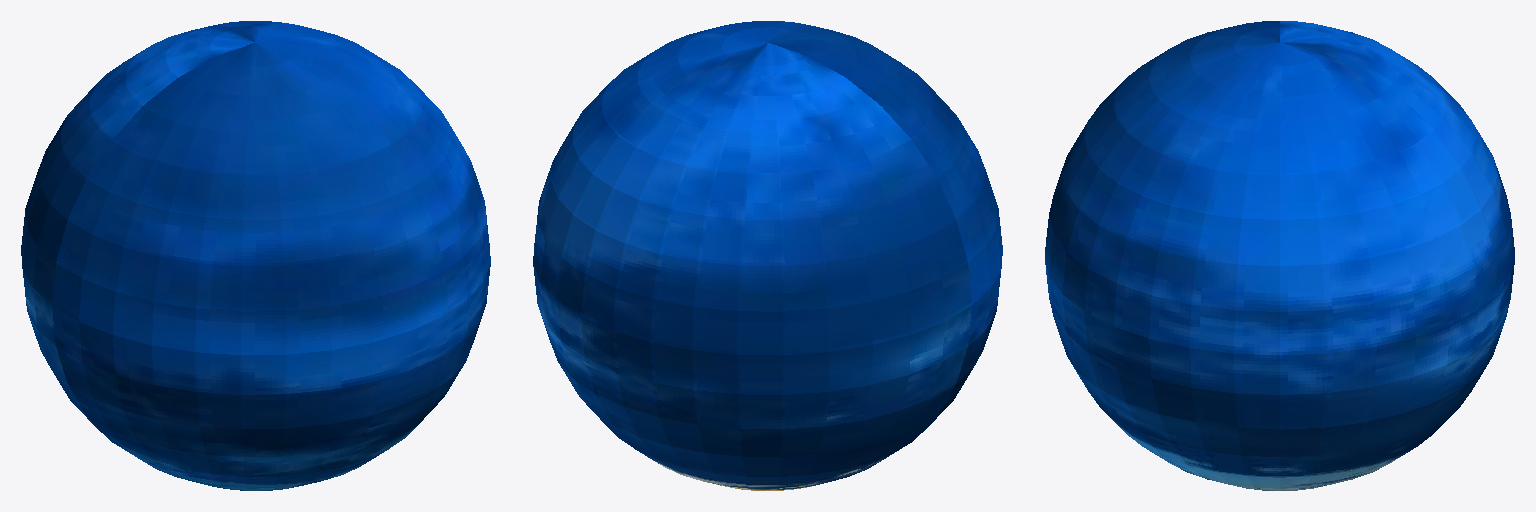
3 views of the same model, side by side, from view 1: azimuth 30°, elevation 25°; view 2: azimuth 150°, elevation 25°; view 3: azimuth 270°, elevation 25° (orthographic).
Parts seen in each view (by area): view 1: 球; view 2: 球; view 3: 球.
Part boxes in pixels (x1,y1,x2,y2): 球: (21,21,490,490); 球: (533,21,1002,490); 球: (1045,21,1514,490).
Size of the model in its own units: 100 by 100 by 100.
Materials: 1 (1 with a texture image).